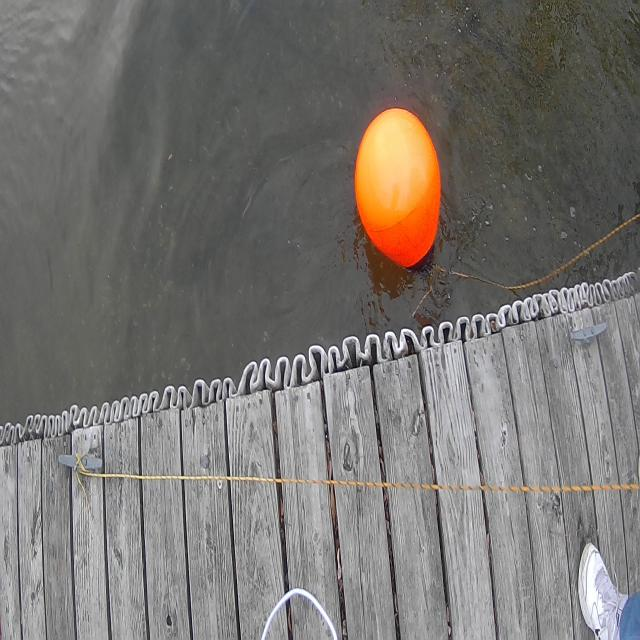Buoy: (350, 99, 444, 288)
